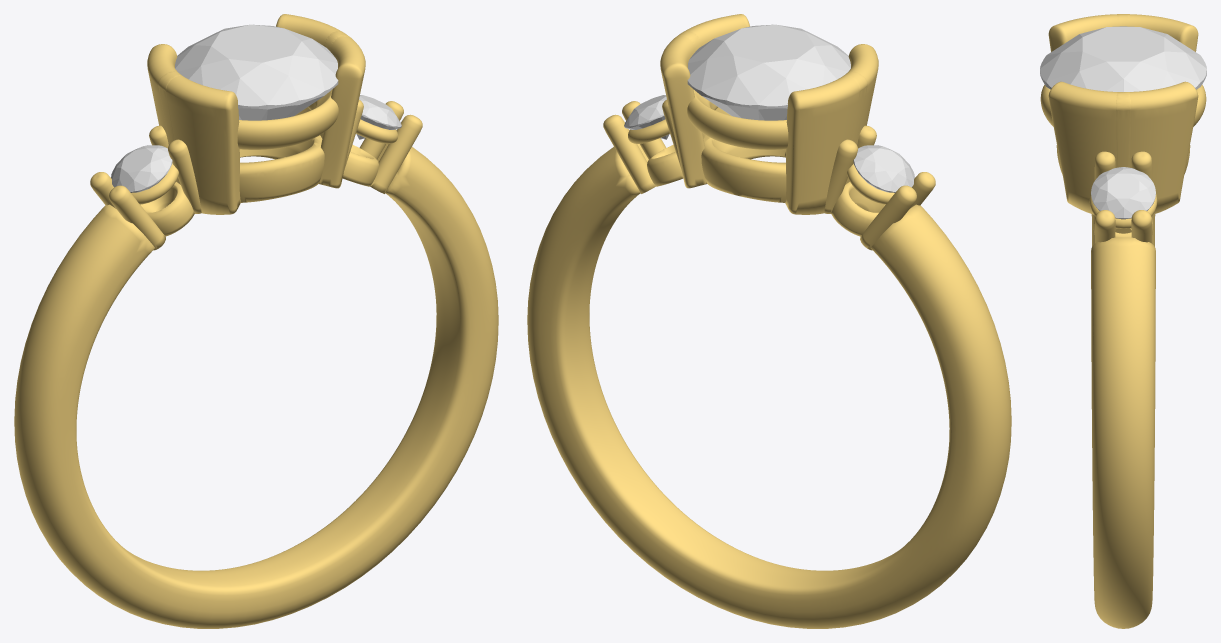
File: diamond-round-yellowgold-halfmoonbezel-straightband-2stone.glb
3 renders of one model, left to right at view 1: azimuth 30°, elevation 25°; view 2: azimuth 150°, elevation 25°; view 3: azimuth 270°, elevation 25°, orthographic. The views are drawn at different scales.
Visible parts, largest first — view 1: metal, stone, side.001, side; view 2: metal, stone, side.001, side; view 3: metal, stone, side.
Boxes of the visible parts, x1,y1,x2,y2 form: metal: (14, 14, 498, 628); stone: (175, 24, 338, 120); side.001: (111, 145, 172, 192); side: (356, 95, 401, 139); metal: (527, 14, 1011, 628); stone: (687, 24, 850, 120); side.001: (853, 145, 914, 192); side: (624, 95, 669, 139); metal: (1040, 14, 1206, 628); stone: (1040, 26, 1206, 91); side: (1091, 167, 1155, 219).
Bounding box in the file's own units: 20.5 × 23.8 × 6.44.
